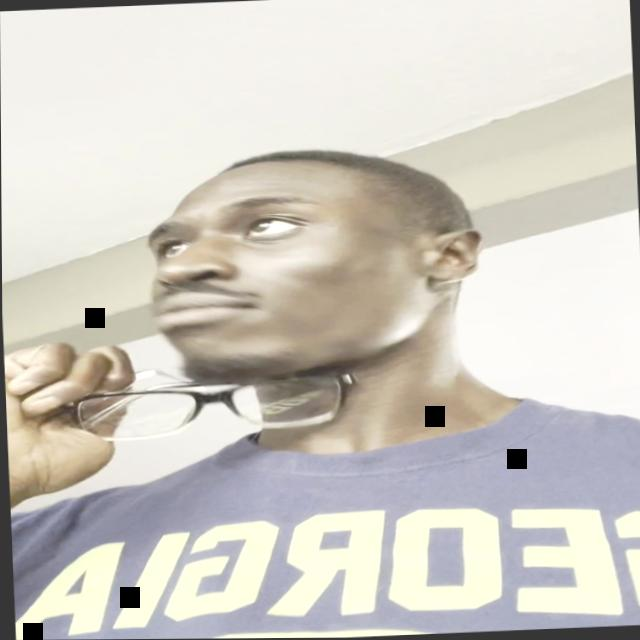NO-Mask: (117, 148, 476, 402)
